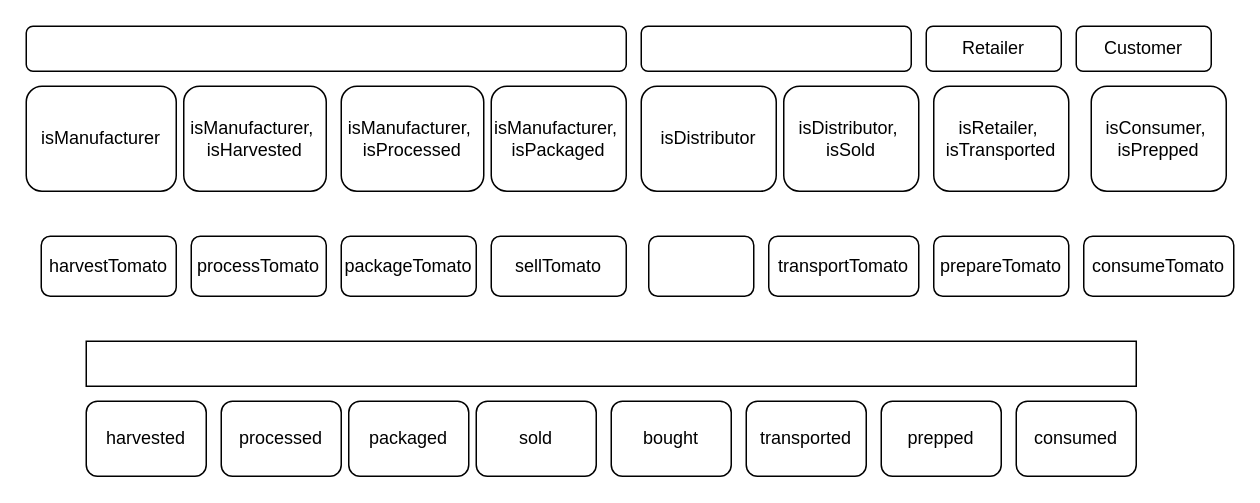
The diagram is 1260 pixels wide and 503 high, and some of its shapes have lost their labels. Here are the shapes that lost their labels. From the top down, the centre of each, then its label:
point 325,48: farmer
point 775,48: Distributor
point 700,265: buytomato
point 610,363: Tomato State
